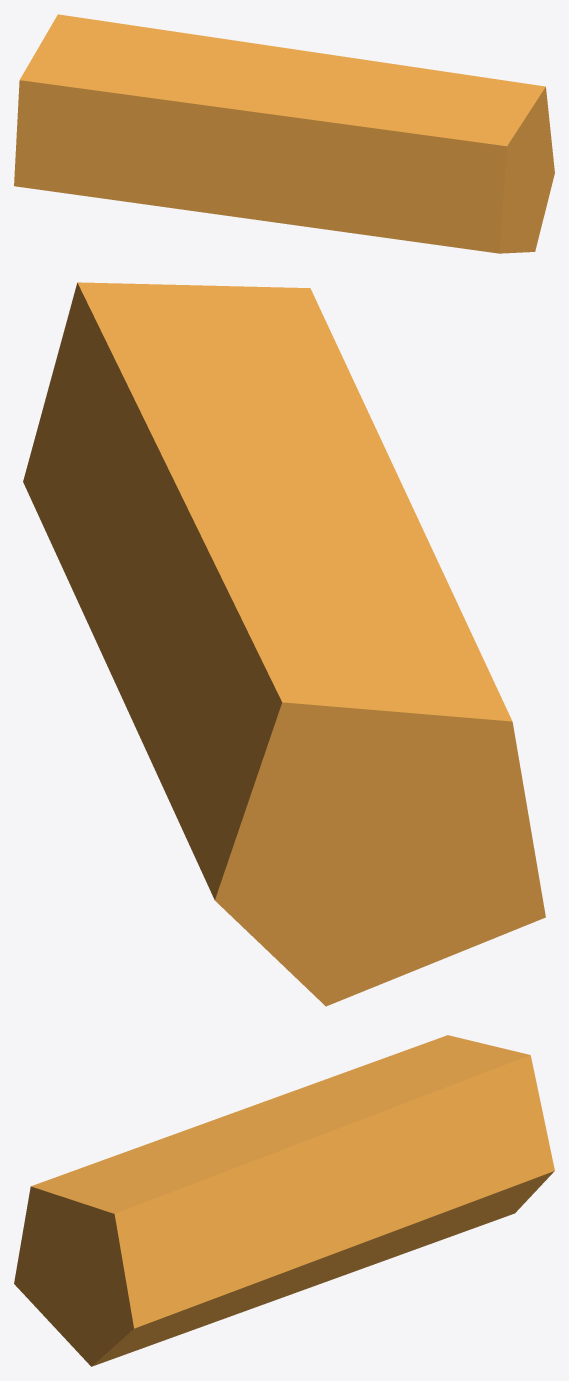
3 renders of one model, top to bottom at view 1: azimuth 30°, elevation 25°; view 2: azimuth 150°, elevation 25°; view 3: azimuth 270°, elevation 25°, orthographic. The views are drawn at different scales.
Visible parts, largest first — view 1: Cylinder.001; view 2: Cylinder.001; view 3: Cylinder.001.
Part boxes in pixels (bbox=[...]): Cylinder.001: bbox=[14, 14, 554, 253]; Cylinder.001: bbox=[23, 282, 545, 1006]; Cylinder.001: bbox=[14, 1035, 554, 1366].
Size of the model in its own units: 0.3869 by 0.1432 by 0.4186.
